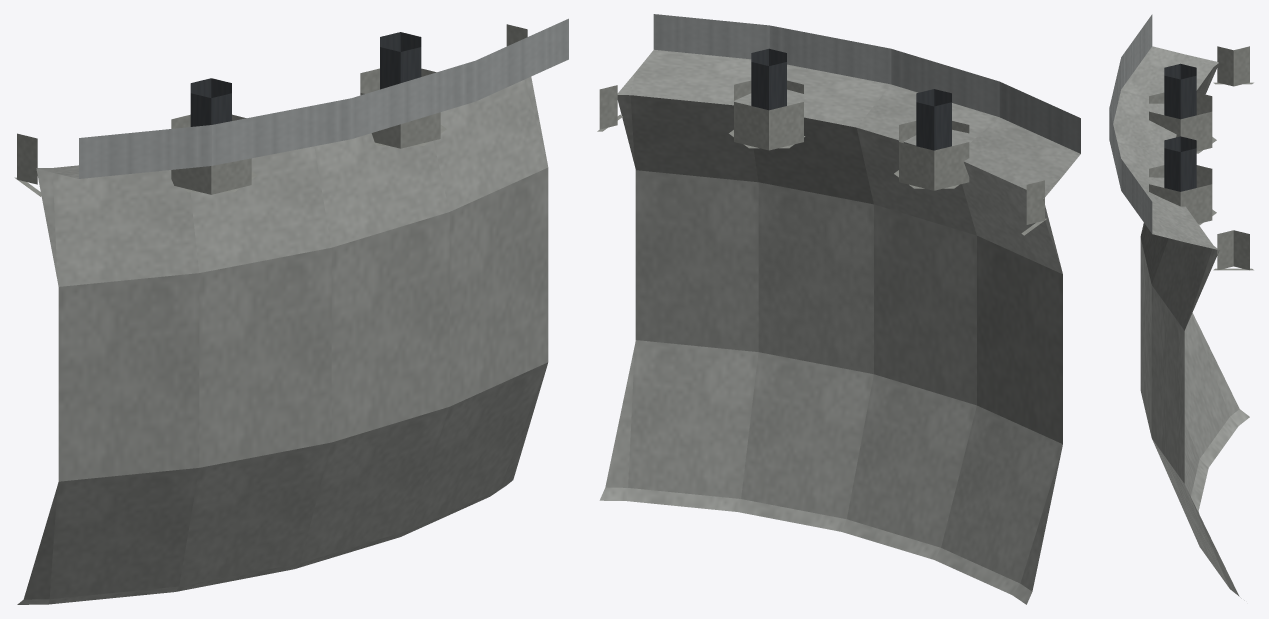
Rendered from cell_67.obj.
The picture shows the model from 3 angles, left to right: view 1: azimuth 30°, elevation 25°; view 2: azimuth 150°, elevation 25°; view 3: azimuth 270°, elevation 25°; orthographic projection. The views are drawn at different scales.
Size of the model in its own units: 1 by 1 by 0.3266.
